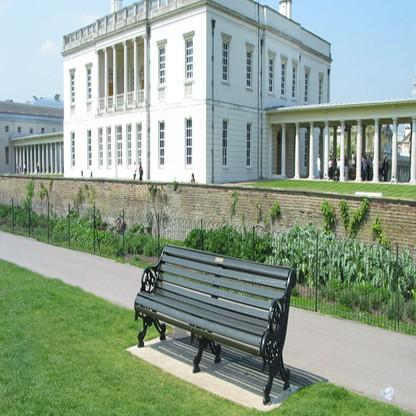obstacle: (126, 240, 321, 406)
